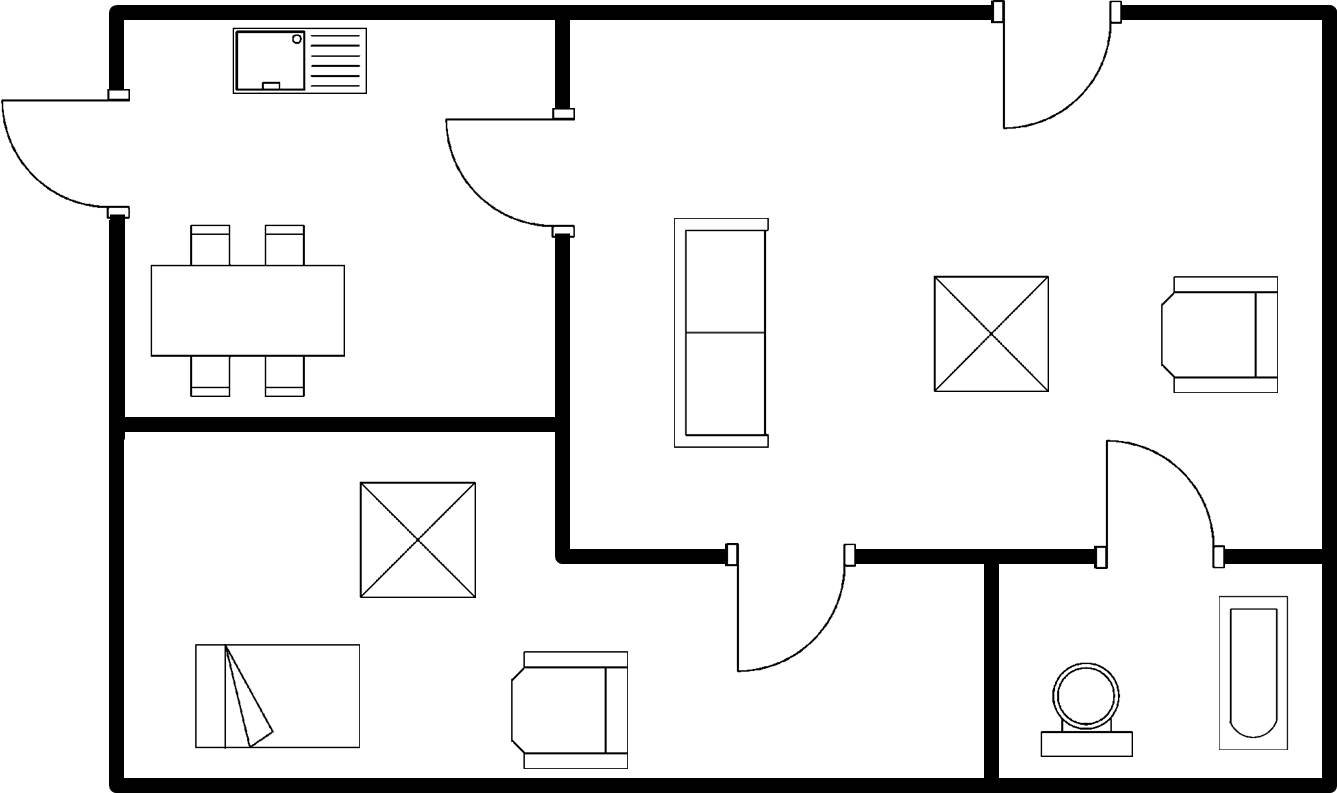armchair: (502, 645, 639, 774), (1154, 269, 1285, 401)
bed: (187, 638, 365, 754)
coffee_table: (925, 270, 1061, 401), (352, 473, 483, 606)
dining_table: (145, 219, 352, 403)
large_sink: (1035, 655, 1138, 765)
large_sofa: (667, 211, 776, 460)
sink: (226, 23, 373, 102)
tub: (1211, 590, 1293, 754)
